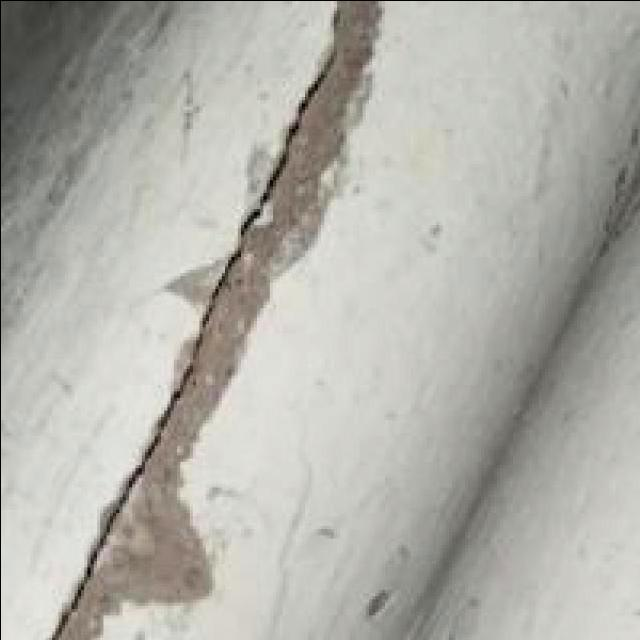SurfaceCrack: (38, 12, 362, 640)
